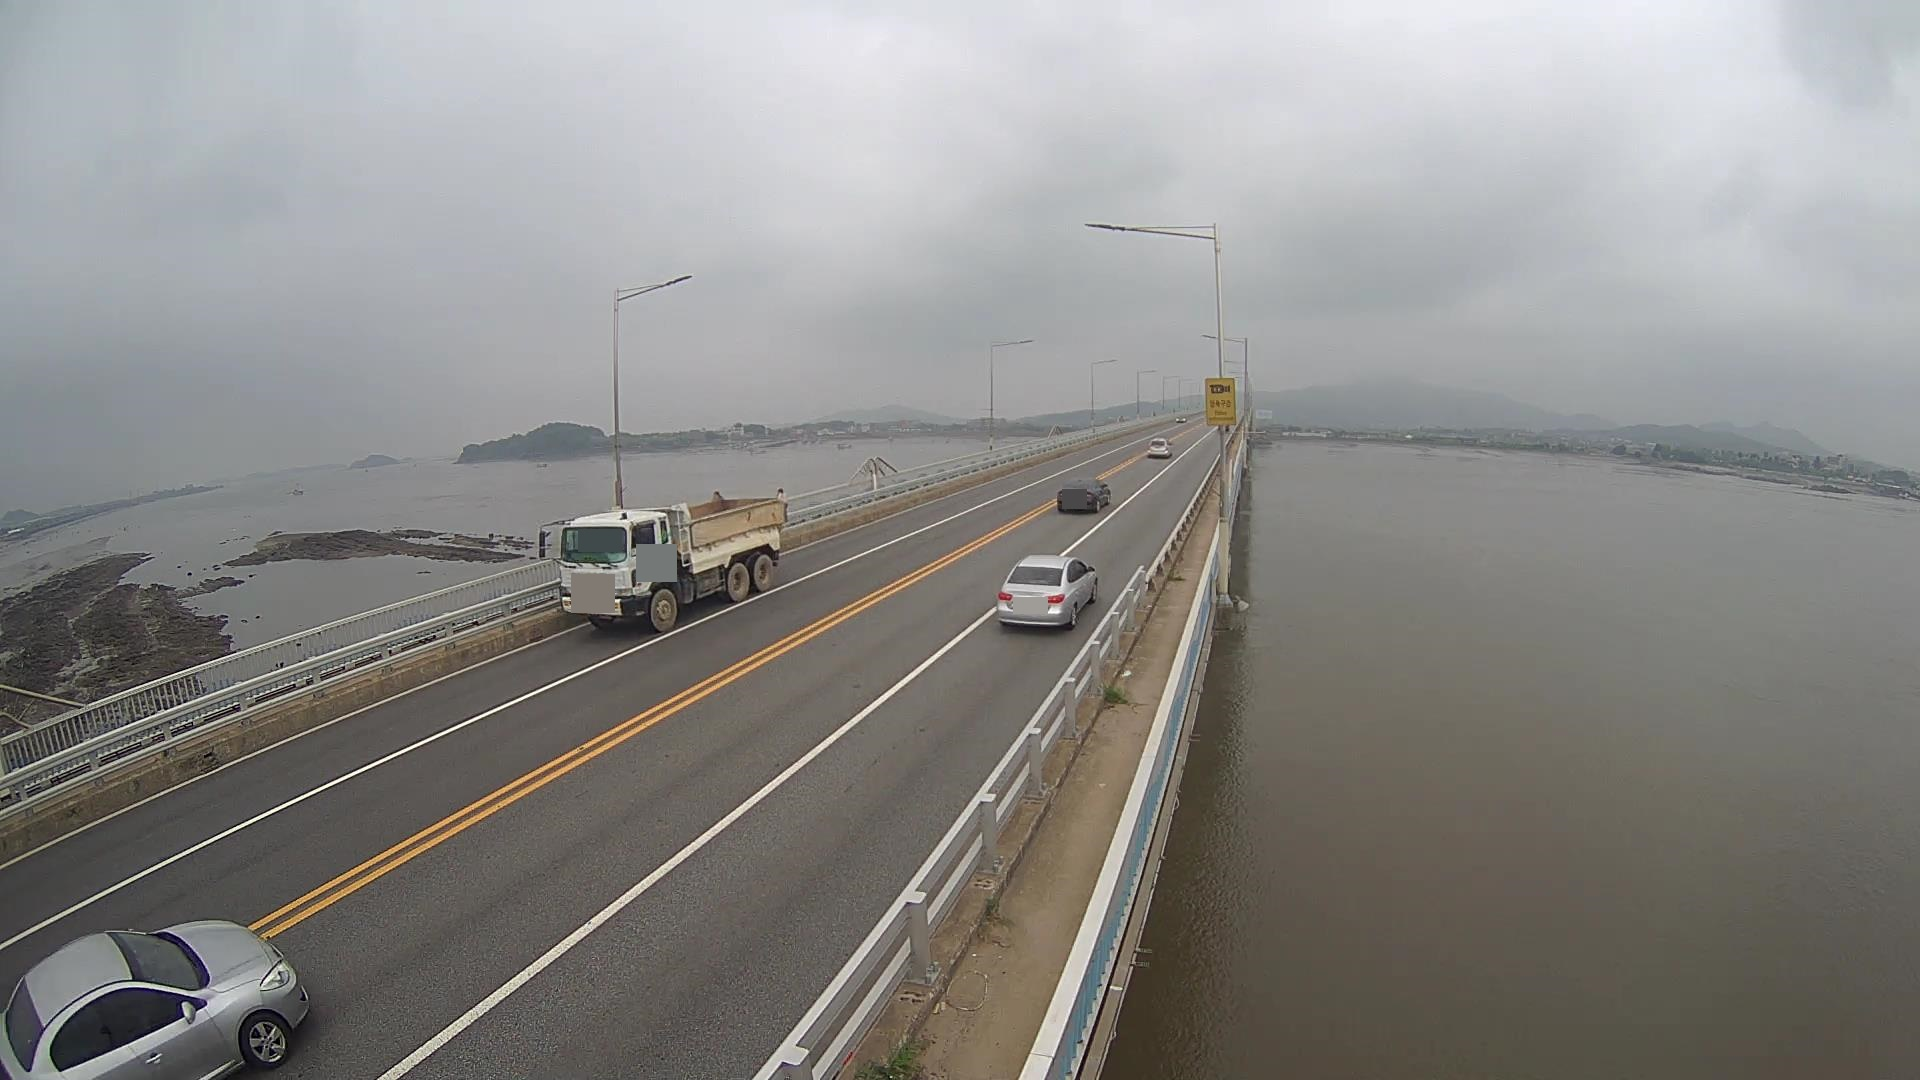정상차량: (539, 488, 789, 632)
